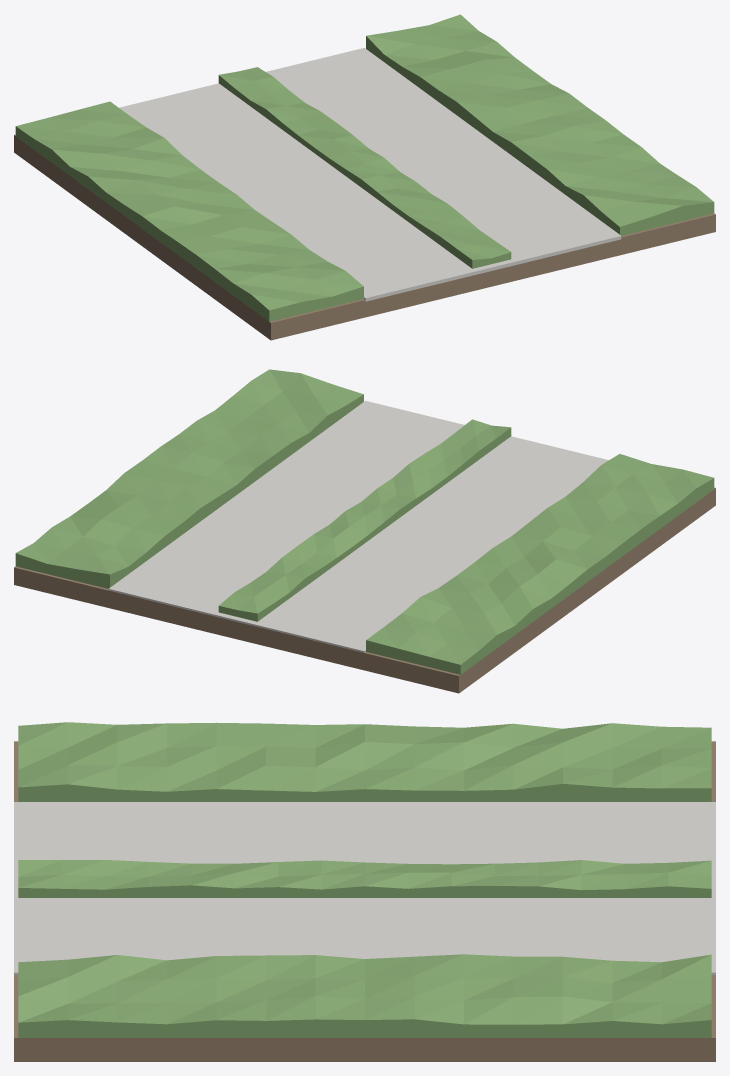
File: arable-fields-and-farm-machinery-farm-track-module-8202a72d__16880.glb
The picture shows the model from 3 angles, top to bottom: view 1: azimuth 30°, elevation 25°; view 2: azimuth 150°, elevation 25°; view 3: azimuth 270°, elevation 25°; orthographic projection. The views are drawn at different scales.
Parts seen in each view (by area): view 1: farm-track-module; view 2: farm-track-module; view 3: farm-track-module.
Boxes of the visible parts, left/top/right/bottom form: farm-track-module: left=14, top=14, right=715, bottom=340; farm-track-module: left=14, top=369, right=715, bottom=693; farm-track-module: left=14, top=722, right=715, bottom=1061.
Bounding box in the file's own units: 8 × 0.5598 × 8.
